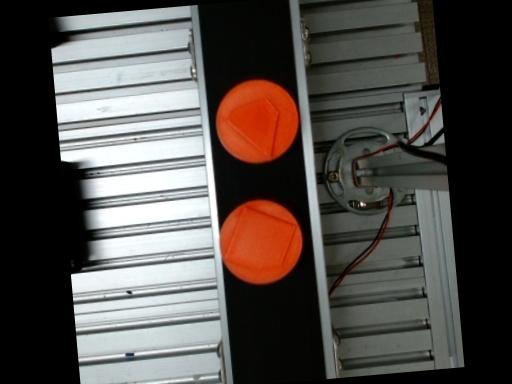Not_Square: (226, 205, 296, 266), (224, 95, 278, 156)
Orange_Waper: (220, 199, 302, 283), (217, 80, 297, 161)
